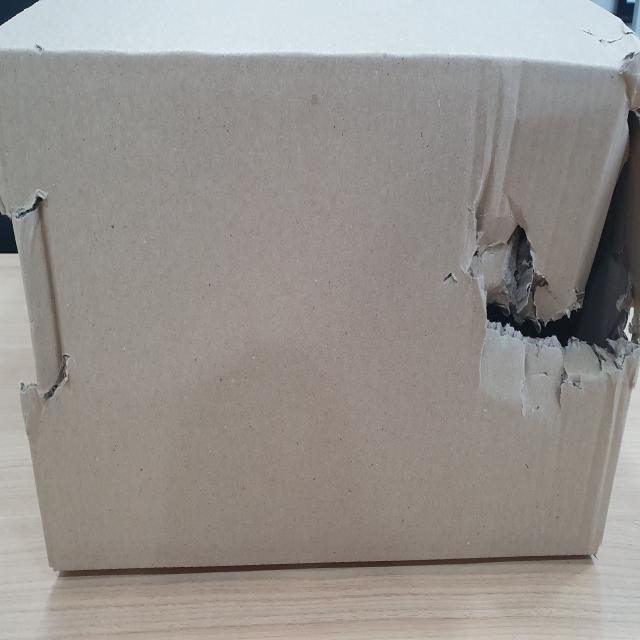hole: (467, 38, 640, 412), (1, 181, 62, 418)
